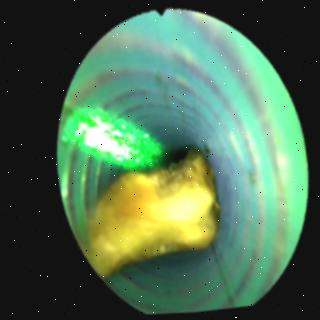laser: (62, 108, 157, 167)
stone: (79, 149, 212, 272)
